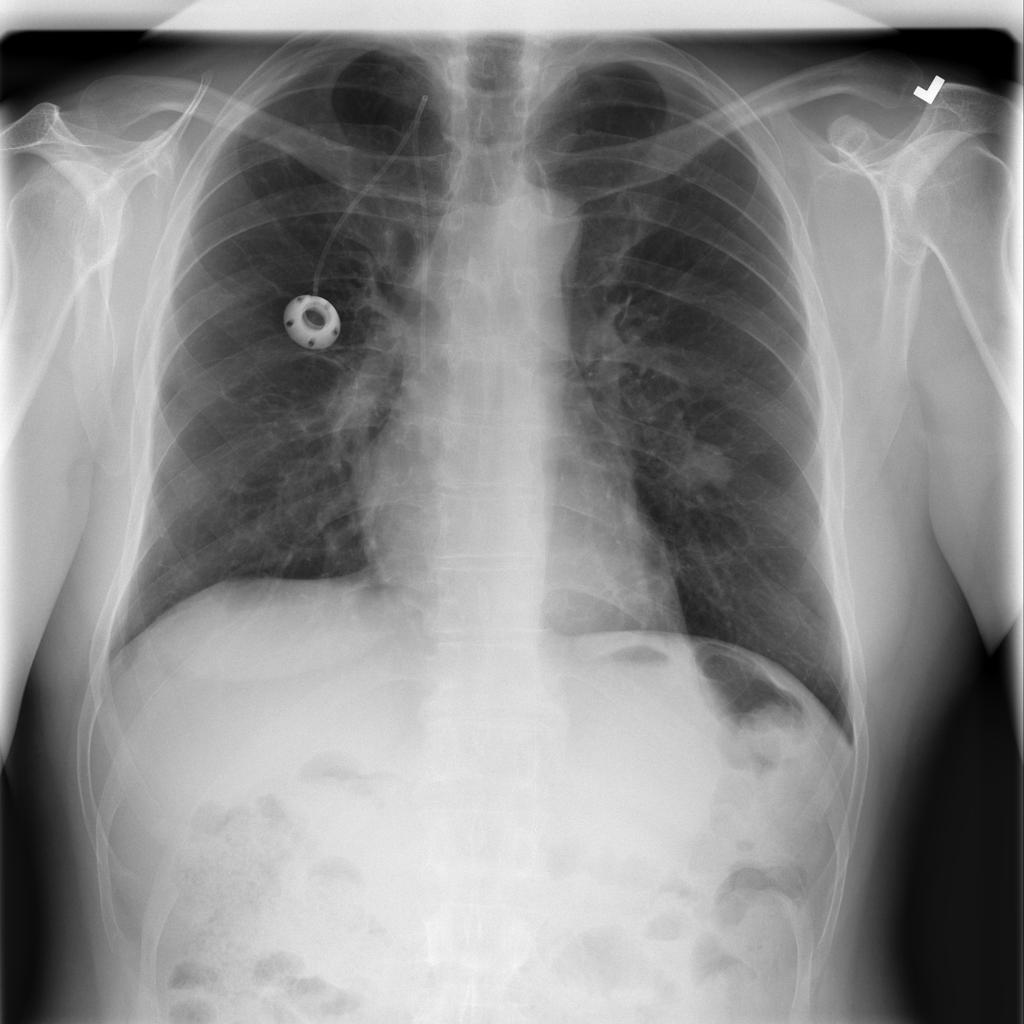nodule: (660, 430, 746, 506)
